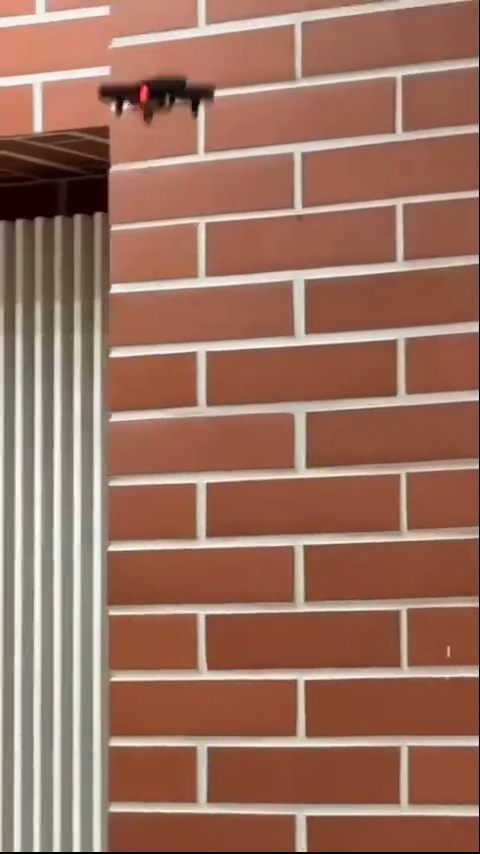drone: (96, 77, 215, 119)
